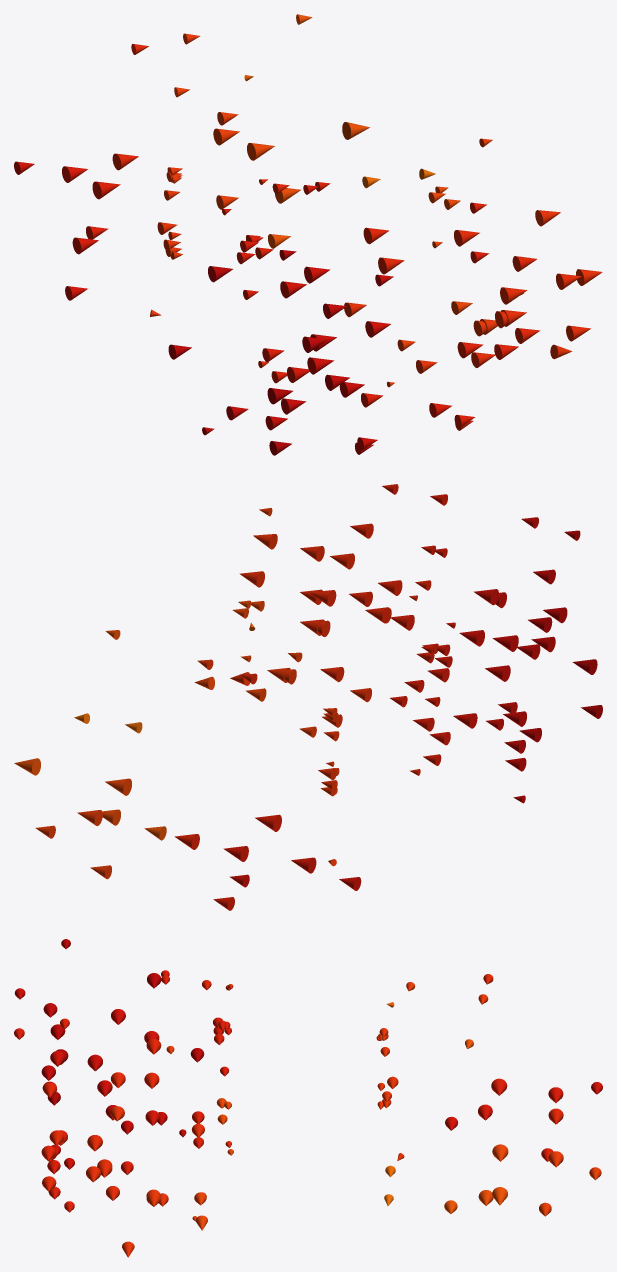
Rendered from LineasCorrienteH2-O2_mh2-2.70_V-1.1.glb.
The picture shows the model from 3 angles, top to bottom: view 1: azimuth 30°, elevation 25°; view 2: azimuth 150°, elevation 25°; view 3: azimuth 270°, elevation 25°; orthographic projection. The views are drawn at different scales.
Size of the model in its own units: 0.000787 by 0.000486 by 0.00123.
2 materials, 2 textured.
